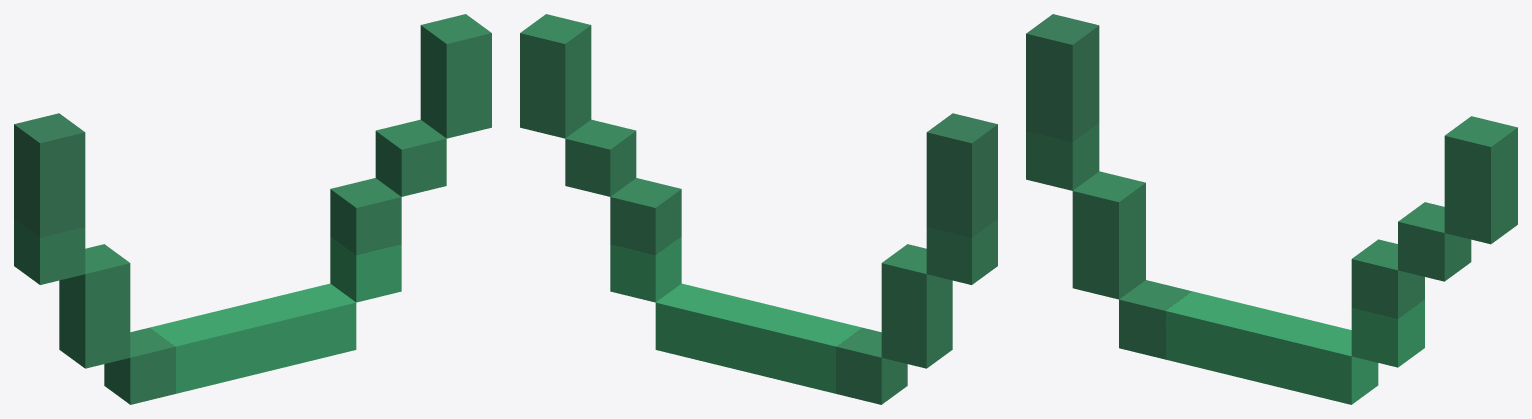
The model's file is vine_U3.fbx.
3 views of the same model, side by side, from view 1: azimuth 30°, elevation 25°; view 2: azimuth 150°, elevation 25°; view 3: azimuth 330°, elevation 25° (orthographic). The views are drawn at different scales.
Visible parts, largest first — view 1: vine_U3; view 2: vine_U3; view 3: vine_U3.
Part boxes in pixels (x1,y1,x2,y2): vine_U3: [14, 14, 491, 404]; vine_U3: [520, 14, 997, 404]; vine_U3: [1026, 14, 1517, 404].
Bounding box in the file's own units: 10 × 6 × 1.
1 material, 1 textured.
